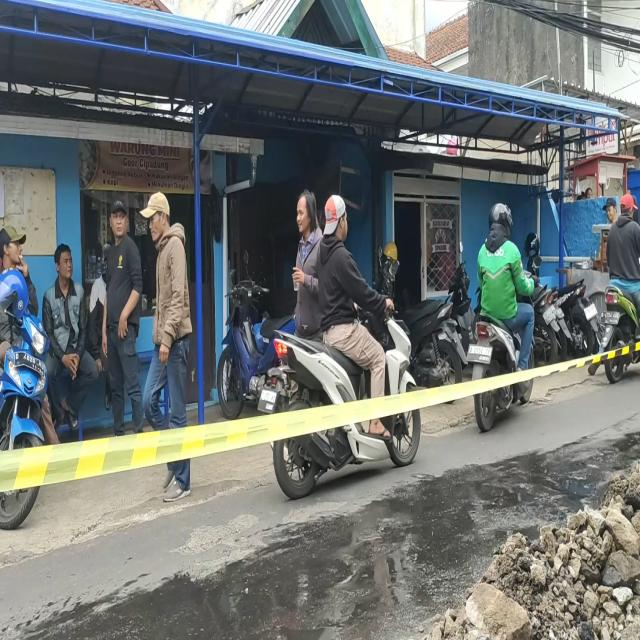helmet: (490, 198, 512, 235)
no-helmet: (325, 202, 350, 240)
